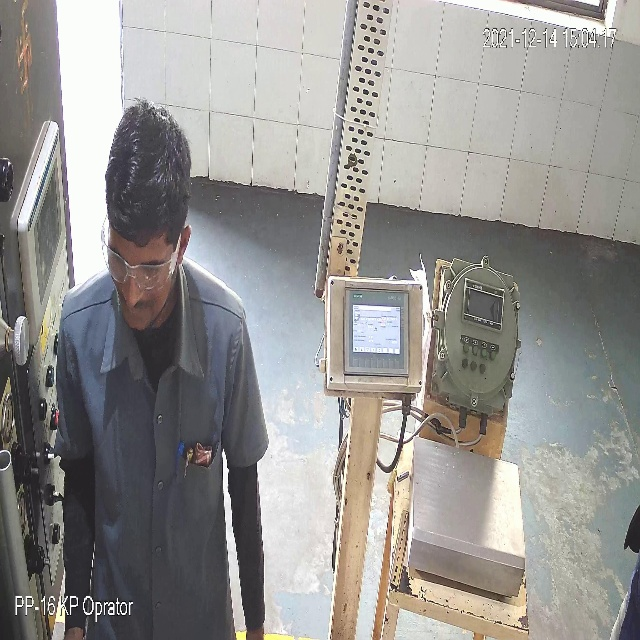Gafas: (102, 232, 176, 285)
Sin_mascara: (119, 277, 172, 335)
